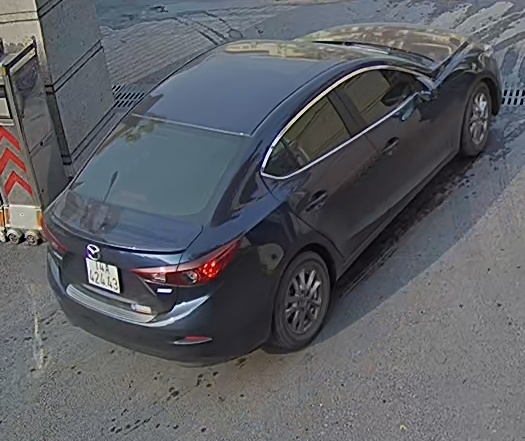vehicle plate: (82, 253, 124, 297)
